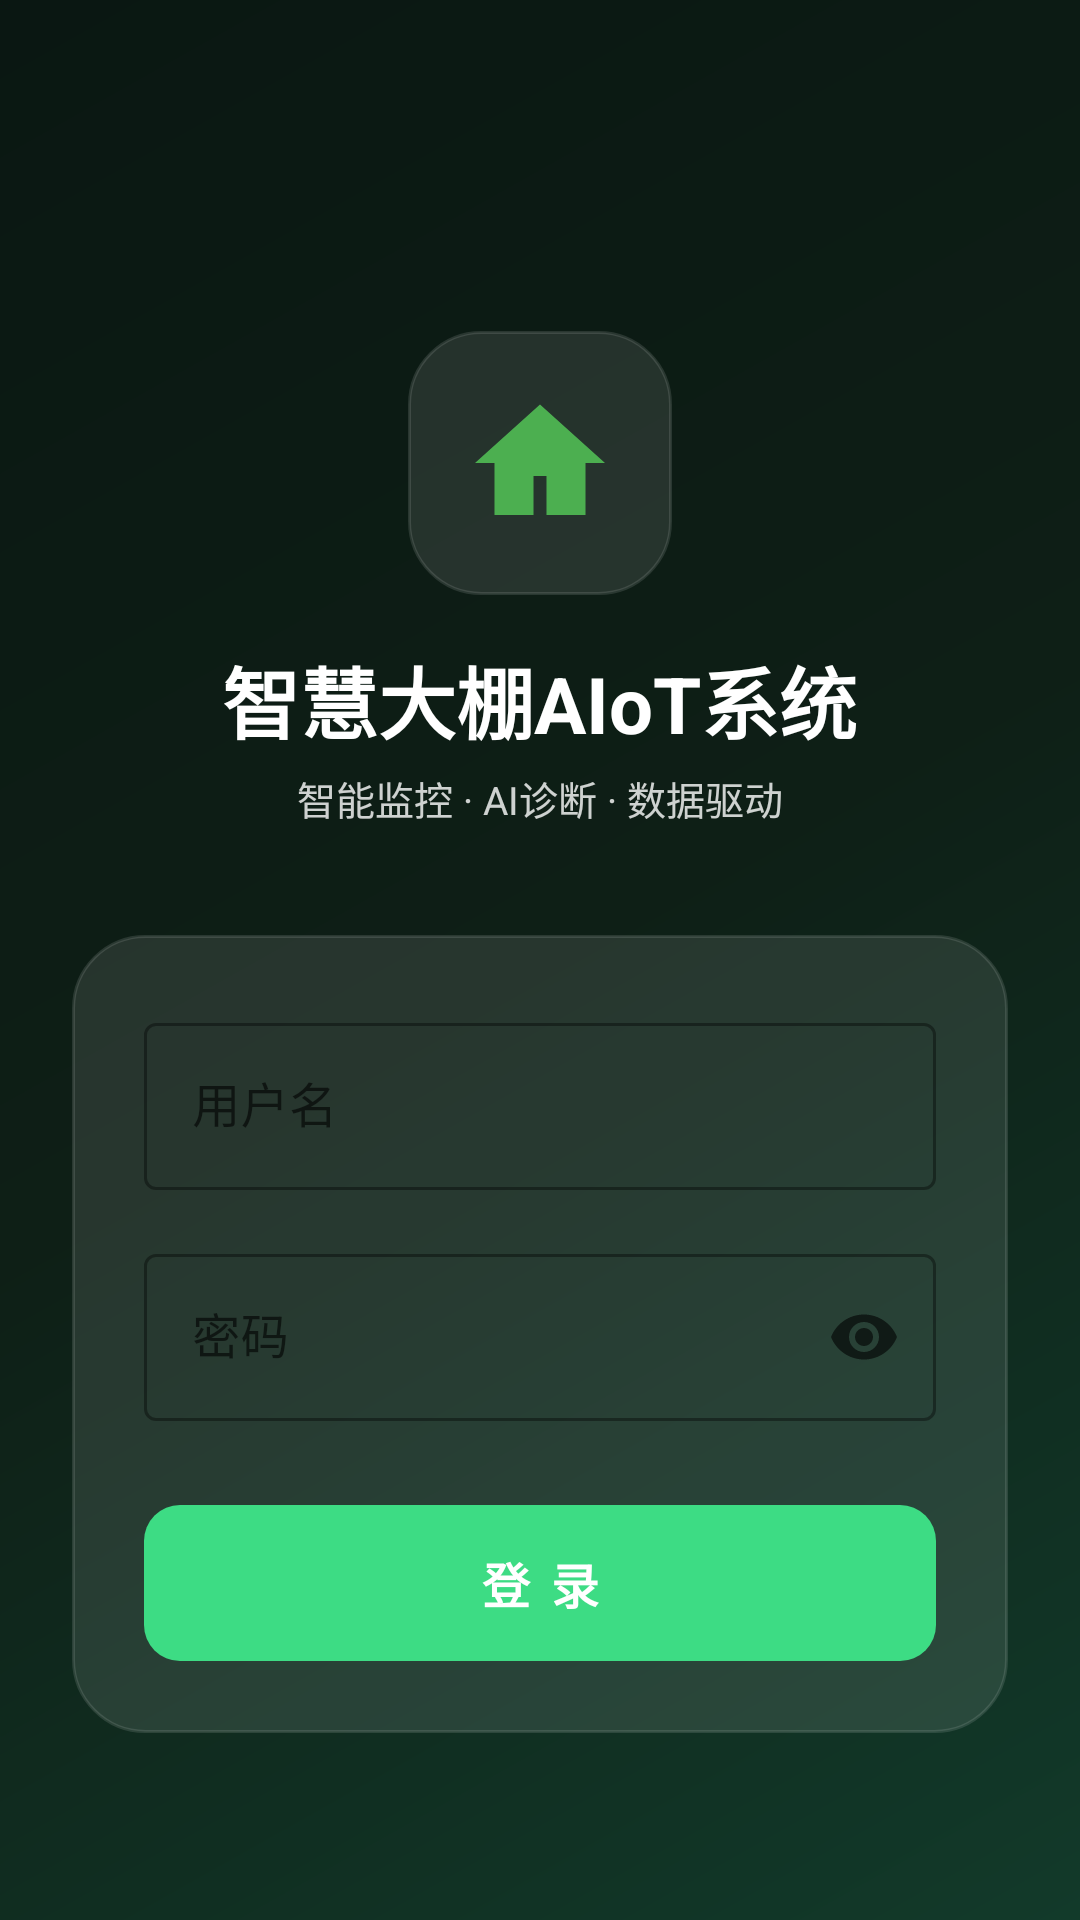

Icon click points for this 1080px x 1920px phone screenshot, format [x,y]:
greenhouse: [540,460]
